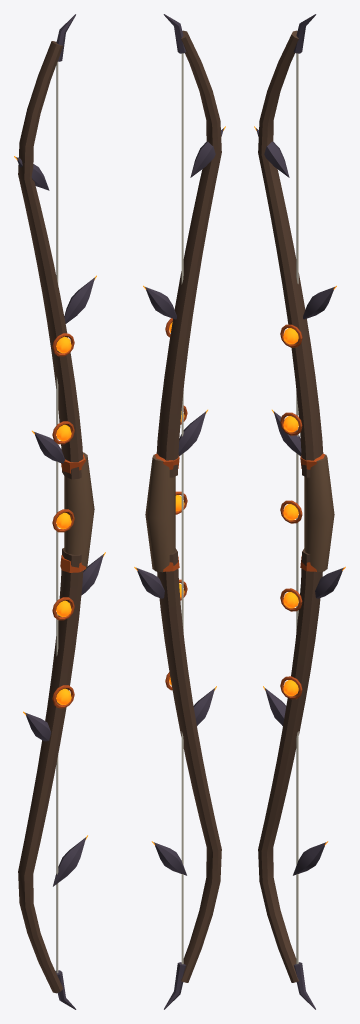
The model's file is fa_skyfall.glb.
3 views of the same model, side by side, from view 1: azimuth 30°, elevation 25°; view 2: azimuth 210°, elevation 25°; view 3: azimuth 330°, elevation 25° (orthographic).
Visible parts, largest first — view 1: fa_skyfall; view 2: fa_skyfall; view 3: fa_skyfall.
Part boxes in pixels (<box>): fa_skyfall: <box>14,14,105,1009</box>; fa_skyfall: <box>134,14,225,1009</box>; fa_skyfall: <box>254,14,345,1009</box>.
Bounding box in the file's own units: 0.1747 × 1.81 × 0.056.
